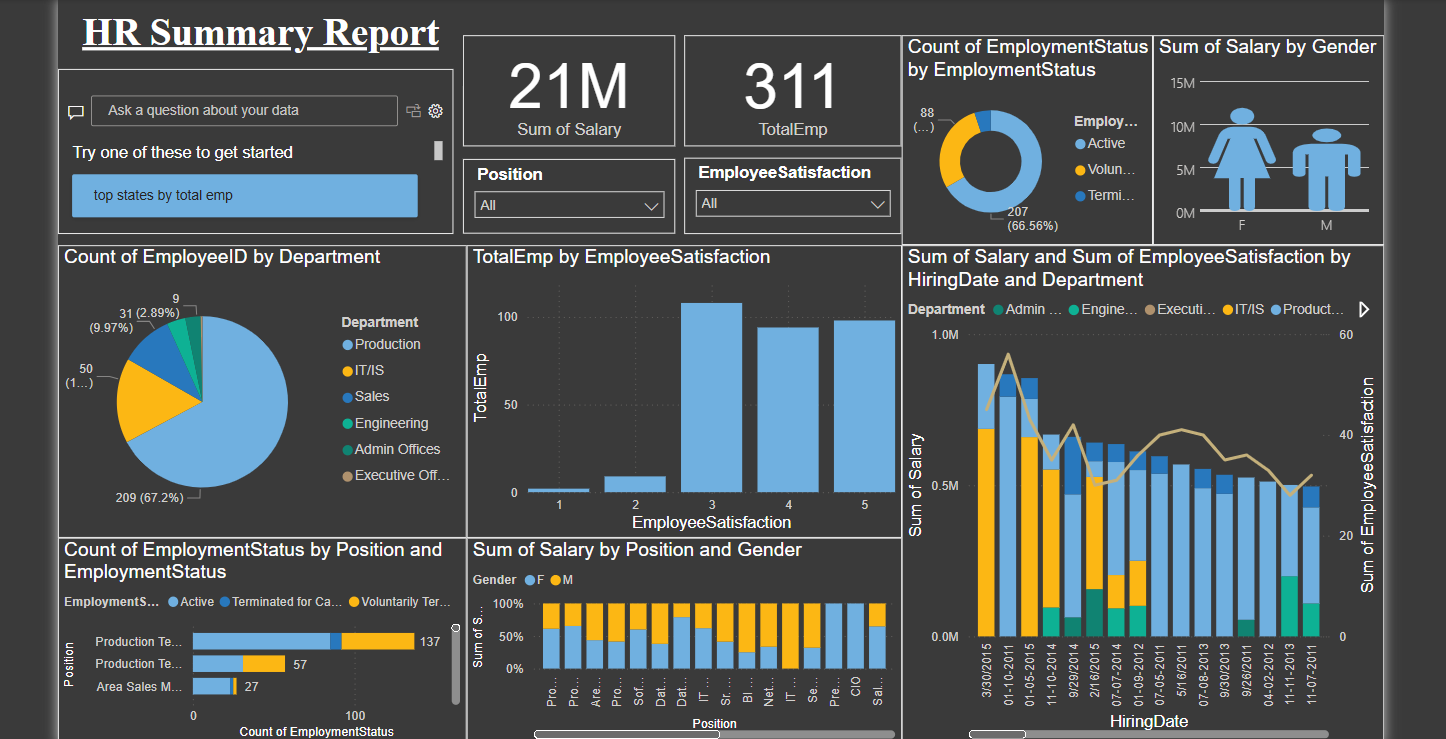

Layout of this report page (visuals, bound fields, positions):
{"tool":"powerbi","page":{"name":"Page 1","canvas":[1280,720],"ordinal":0},"visuals":[{"type":"barChart","fields":{"Y":["CountNonNull(HRData.EmploymentStatus)"],"Category":["HRData.Position"],"Series":["HRData.EmploymentStatus"]},"box":[0,520,394.5,200.3],"z":0},{"type":"hundredPercentStackedColumnChart","fields":{"Y":["Sum(HRData.Salary)"],"Category":["HRData.Position"],"Series":["HRData.Gender"]},"box":[394.5,520,419.8,200.3],"z":1000},{"type":"lineStackedColumnComboChart","fields":{"Category":["HRData.HiringDate"],"Y":["Sum(HRData.Salary)"],"Series":["HRData.Department"],"Y2":["Sum(HRData.EmployeeSatisfaction)"]},"box":[814.3,237.7,465.7,482.6],"z":2000},{"type":"pieChart","fields":{"Y":["CountNonNull(HRData.EmployeeID)"],"Category":["HRData.Department"]},"box":[0,237.7,394.5,282.3],"z":3000},{"type":"columnChart","fields":{"Category":["HRData.EmployeeSatisfaction"],"Y":["HRData.TotalEmp"]},"box":[394.5,237.7,419.8,282.3],"z":4000},{"type":"textbox","box":[0,4.8,390.9,68.8],"z":5000},{"type":"card","fields":{"Values":["Sum(HRData.Salary)"]},"box":[390.9,35,205.1,107.4],"z":6000},{"type":"card","fields":{"Values":["HRData.TotalEmp"]},"box":[604.4,35,209.9,107.4],"z":7000},{"type":"donutChart","fields":{"Category":["HRData.EmploymentStatus"],"Y":["CountNonNull(HRData.EmploymentStatus)"]},"box":[814.3,35,242.5,202.7],"z":8000},{"type":"PBI_CV_73744D90_4DC9_4F18_8BA5_EE8FA5C98035","fields":{"Category":["HRData.Gender"],"Values":["Sum(HRData.Salary)"]},"box":[1056.8,35,223.2,202.7],"z":9000},{"type":"slicer","fields":{"Values":["HRData.Position"]},"box":[390.9,154.4,205.1,72.4],"z":10000},{"type":"slicer","fields":{"Values":["HRData.EmployeeSatisfaction"]},"box":[604.4,153.2,209.9,73.6],"z":11000},{"type":"qnaVisual","box":[0,67.6,381.2,159.3],"z":12000}]}

Visuals, with their boxes in screenshot pixels (x1, y1, x2, y2):
barChart - CountNonNull(HRData.EmploymentStatus) x HRData.Position: x1=45, y1=541, x2=459, y2=738
hundredPercentStackedColumnChart - Sum(HRData.Salary) x HRData.Position: x1=459, y1=541, x2=899, y2=738
lineStackedColumnComboChart - HRData.HiringDate x Sum(HRData.Salary): x1=899, y1=245, x2=1387, y2=738
pieChart - CountNonNull(HRData.EmployeeID) x HRData.Department: x1=45, y1=245, x2=459, y2=541
columnChart - HRData.EmployeeSatisfaction x HRData.TotalEmp: x1=459, y1=245, x2=899, y2=541
textbox: x1=45, y1=1, x2=455, y2=73
card - Sum(HRData.Salary): x1=455, y1=33, x2=670, y2=145
card - HRData.TotalEmp: x1=679, y1=33, x2=899, y2=145
donutChart - HRData.EmploymentStatus x CountNonNull(HRData.EmploymentStatus): x1=899, y1=33, x2=1153, y2=245
PBI_CV_73744D90_4DC9_4F18_8BA5_EE8FA5C98035 - HRData.Gender x Sum(HRData.Salary): x1=1153, y1=33, x2=1387, y2=245
slicer - HRData.Position: x1=455, y1=158, x2=670, y2=234
slicer - HRData.EmployeeSatisfaction: x1=679, y1=157, x2=899, y2=234
qnaVisual: x1=45, y1=67, x2=445, y2=234
